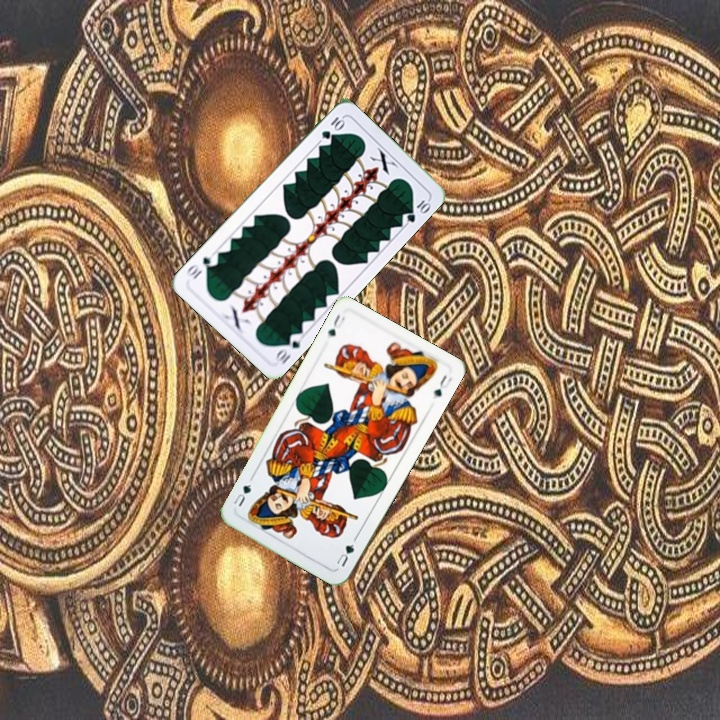G10: (271, 329, 306, 367), (317, 113, 347, 142)
GU: (332, 540, 357, 569), (324, 310, 348, 339)
